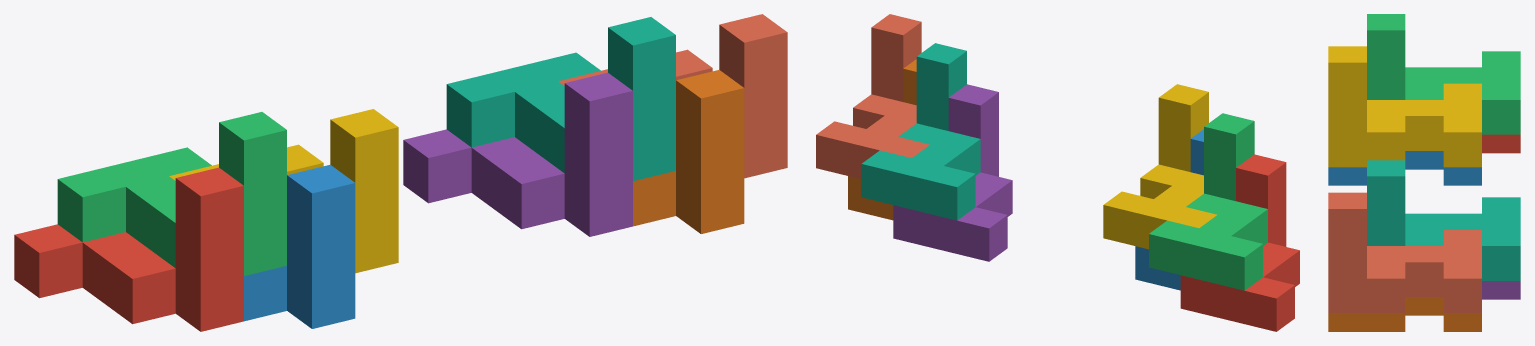
Rendered from tiling.obj.
The picture shows the model from 3 angles, left to right: view 1: azimuth 30°, elevation 25°; view 2: azimuth 150°, elevation 25°; view 3: azimuth 270°, elevation 25°; orthographic projection. The views are drawn at different scales.
Parts seen in each view (by area): view 1: copy_1_domain_1, copy_1_domain_5, copy_1_domain_7, copy_1_domain_3, copy_1_domain_2, copy_1_domain_6, copy_1_domain_8, copy_1_domain_4; view 2: copy_1_domain_7, copy_1_domain_3, copy_1_domain_5, copy_1_domain_1, copy_1_domain_4, copy_1_domain_8, copy_1_domain_6, copy_1_domain_2; view 3: copy_1_domain_8, copy_1_domain_4, copy_1_domain_3, copy_1_domain_7, copy_1_domain_6, copy_1_domain_2, copy_1_domain_1, copy_1_domain_5.
Boxes of the visible parts, x1=… form: copy_1_domain_1: x1=14, y1=167, x2=243, y2=331; copy_1_domain_5: x1=403, y1=72, x2=632, y2=236; copy_1_domain_7: x1=446, y1=17, x2=675, y2=181; copy_1_domain_3: x1=57, y1=112, x2=286, y2=275; copy_1_domain_2: x1=244, y1=164, x2=355, y2=328; copy_1_domain_6: x1=633, y1=70, x2=744, y2=233; copy_1_domain_8: x1=558, y1=14, x2=787, y2=178; copy_1_domain_4: x1=169, y1=109, x2=398, y2=273; copy_1_domain_7: x1=861, y1=43, x2=980, y2=220; copy_1_domain_3: x1=1149, y1=113, x2=1267, y2=290; copy_1_domain_5: x1=893, y1=84, x2=1012, y2=261; copy_1_domain_1: x1=1180, y1=154, x2=1299, y2=331; copy_1_domain_4: x1=1103, y1=84, x2=1217, y2=249; copy_1_domain_8: x1=816, y1=14, x2=929, y2=178; copy_1_domain_6: x1=848, y1=59, x2=916, y2=220; copy_1_domain_2: x1=1135, y1=129, x2=1203, y2=290; copy_1_domain_8: x1=1328, y1=192, x2=1481, y2=313; copy_1_domain_4: x1=1328, y1=46, x2=1481, y2=167; copy_1_domain_3: x1=1367, y1=14, x2=1520, y2=134; copy_1_domain_7: x1=1367, y1=160, x2=1520, y2=280; copy_1_domain_6: x1=1328, y1=297, x2=1481, y2=331; copy_1_domain_2: x1=1328, y1=151, x2=1481, y2=185; copy_1_domain_1: x1=1482, y1=134, x2=1520, y2=153; copy_1_domain_5: x1=1482, y1=281, x2=1520, y2=299.
Size of the model in its own units: 15 by 4 by 5.
